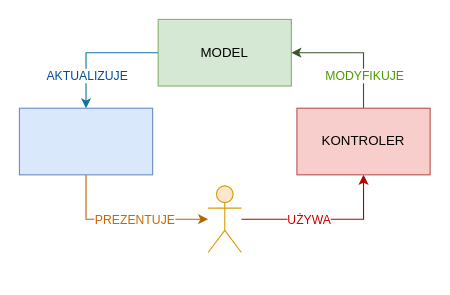
The diagram is 450 pixels wide and 295 high, and some of its shapes have lost their labels. Each missing label, with the centre of its shape:
"Użytkownik" belongs at (x=224, y=219).
"WIDOK" belongs at (x=85, y=141).
